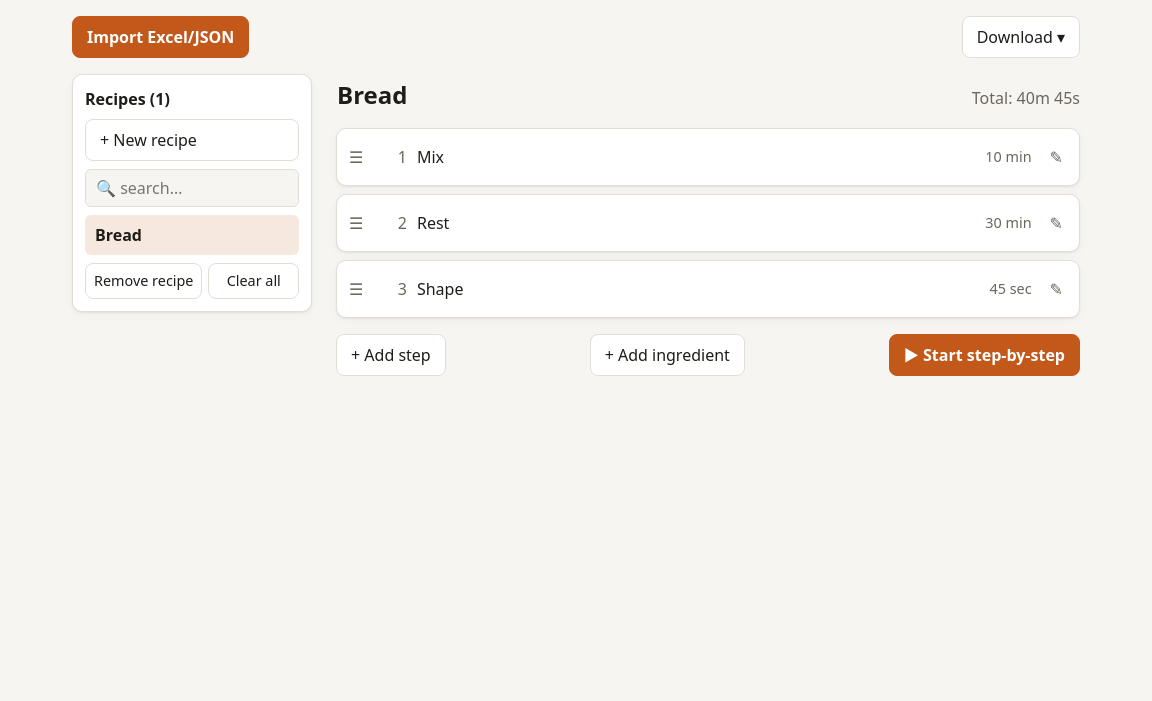
add step opens its editor
Earlier steps of the test are not shown.
Click the button "+ Add step": (391, 355) [336,334,446,376]
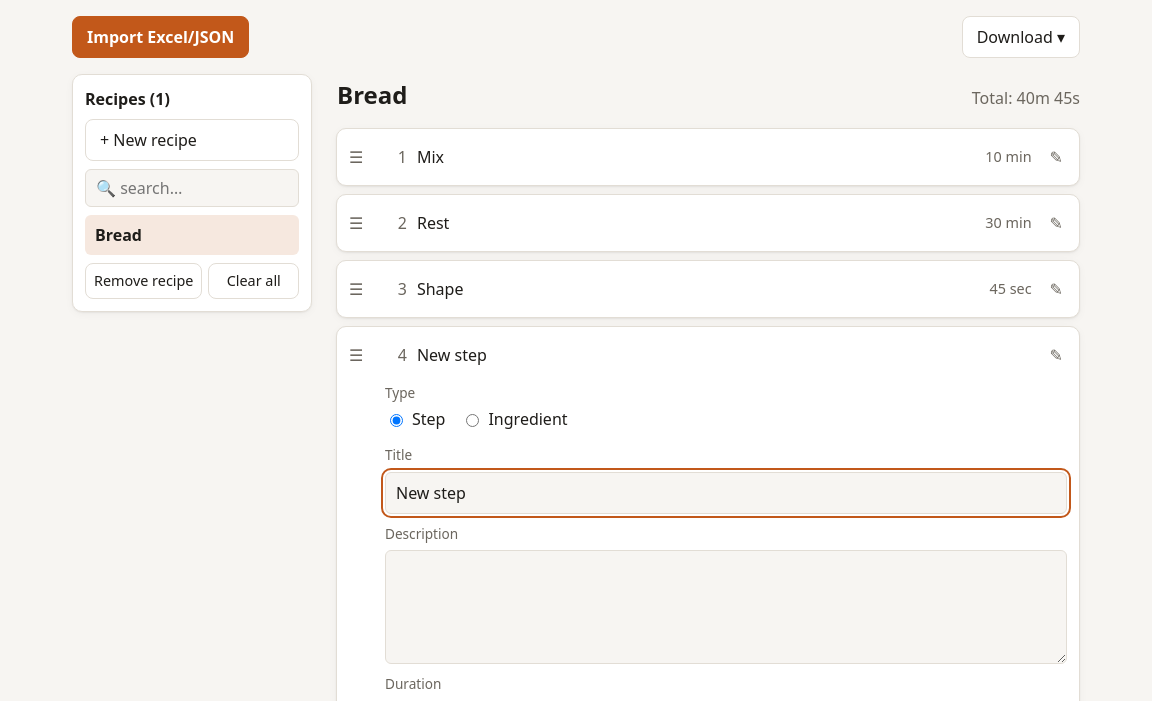
expect the field labelled "Title" holds "New step": met, box [385,472,1067,514]
